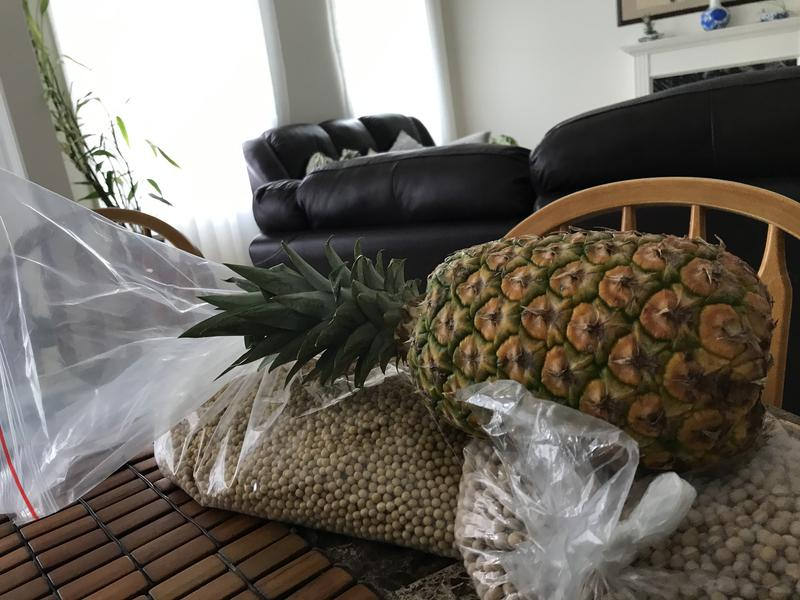pineapple: (187, 219, 786, 482)
